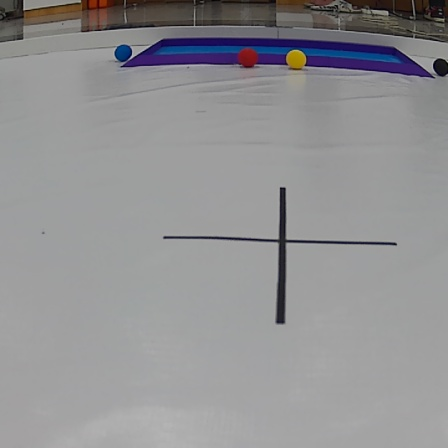black: (431, 58, 448, 80)
blue: (114, 42, 132, 60)
blue_aim: (132, 35, 430, 86)
red: (239, 48, 255, 66)
yellow: (285, 50, 308, 70)
